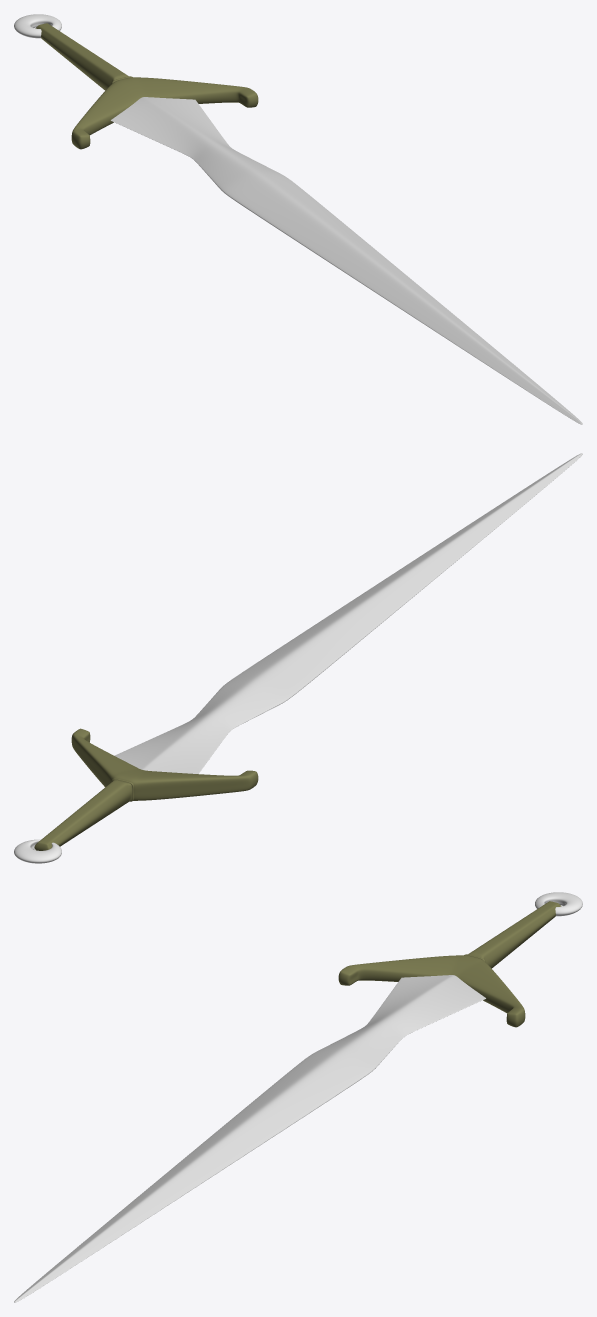
The model's file is sowrd02.fbx.
3 views of the same model, one above another, from view 1: azimuth 30°, elevation 25°; view 2: azimuth 150°, elevation 25°; view 3: azimuth 330°, elevation 25° (orthographic).
Parts seen in each view (by area): view 1: Sowrd02.000; view 2: Sowrd02.000; view 3: Sowrd02.000.
Part boxes in pixels (x1,y1,x2,y2): Sowrd02.000: [14, 14, 582, 424]; Sowrd02.000: [14, 453, 582, 863]; Sowrd02.000: [14, 892, 582, 1302].
Size of the model in its own units: 0.826 by 0.1122 by 4.4.
